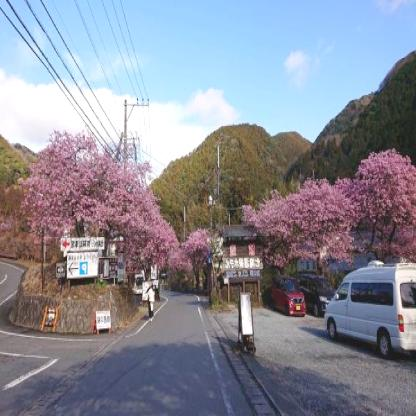KawazuSakura: (0, 127, 176, 281), (237, 141, 416, 282), (162, 216, 211, 285)
